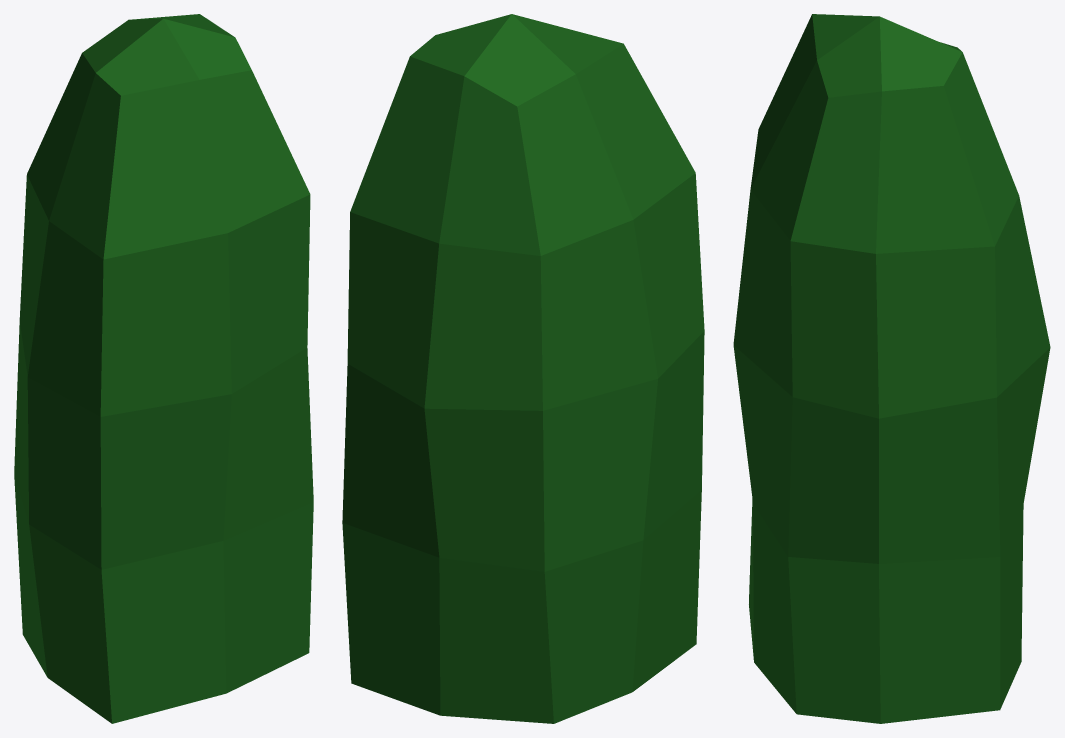
The model's file is bush_maze.fbx.
3 views of the same model, side by side, from view 1: azimuth 30°, elevation 25°; view 2: azimuth 150°, elevation 25°; view 3: azimuth 270°, elevation 25° (orthographic). The views are drawn at different scales.
Visible parts, largest first — view 1: Maze Bush; view 2: Maze Bush; view 3: Maze Bush.
Boxes of the visible parts, box(x1,y1,x2,y2) form: Maze Bush: box(14, 14, 313, 723); Maze Bush: box(342, 14, 704, 723); Maze Bush: box(733, 14, 1050, 723).
Bounding box in the file's own units: 158 × 335 × 149.
